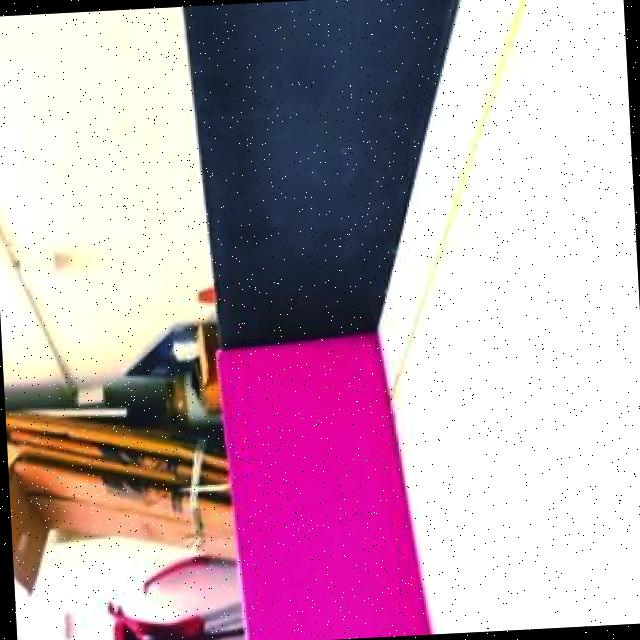xparking: (233, 338, 422, 640)
